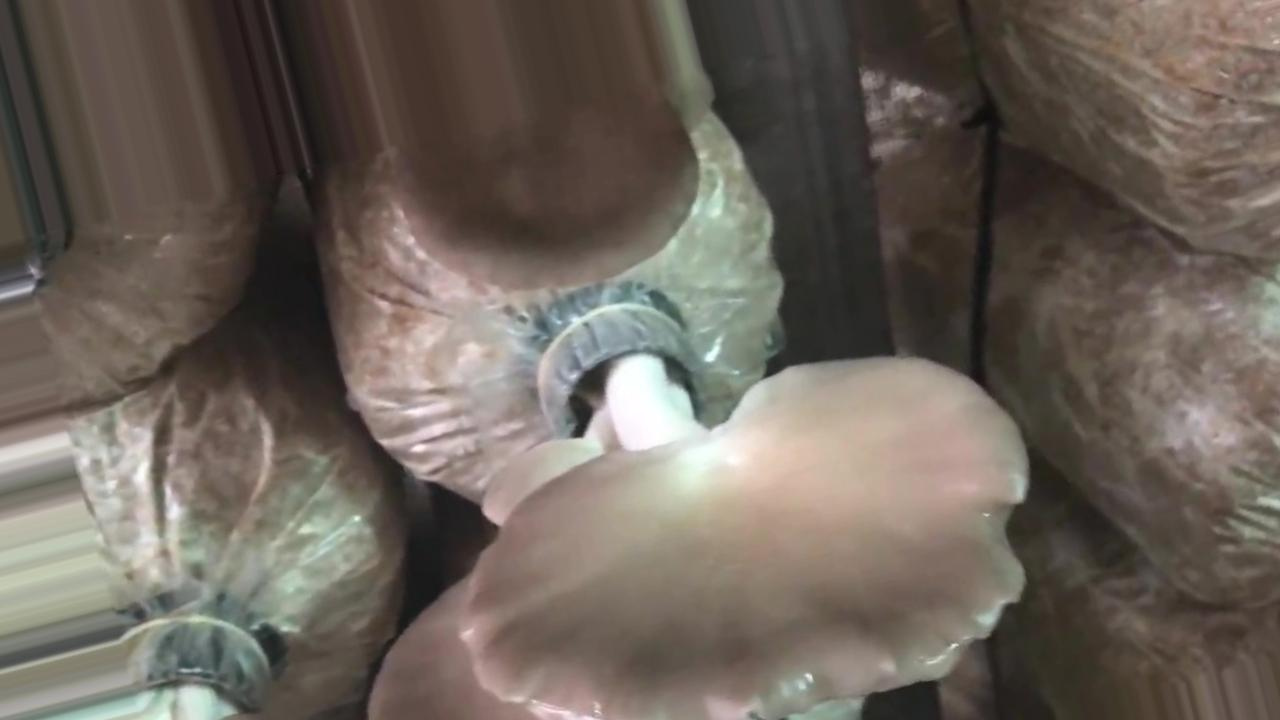nam: (463, 293, 1032, 718), (357, 1, 705, 295)
